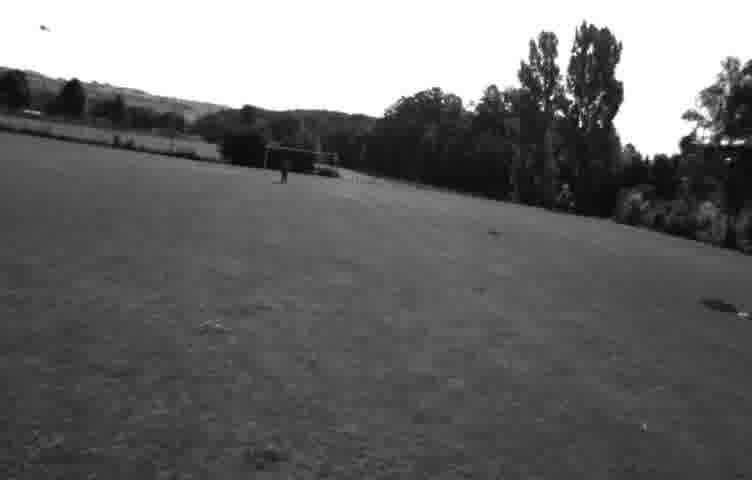drone: (31, 19, 53, 36)
